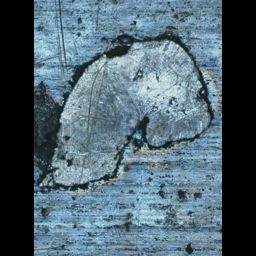d: (37, 32, 214, 194)
